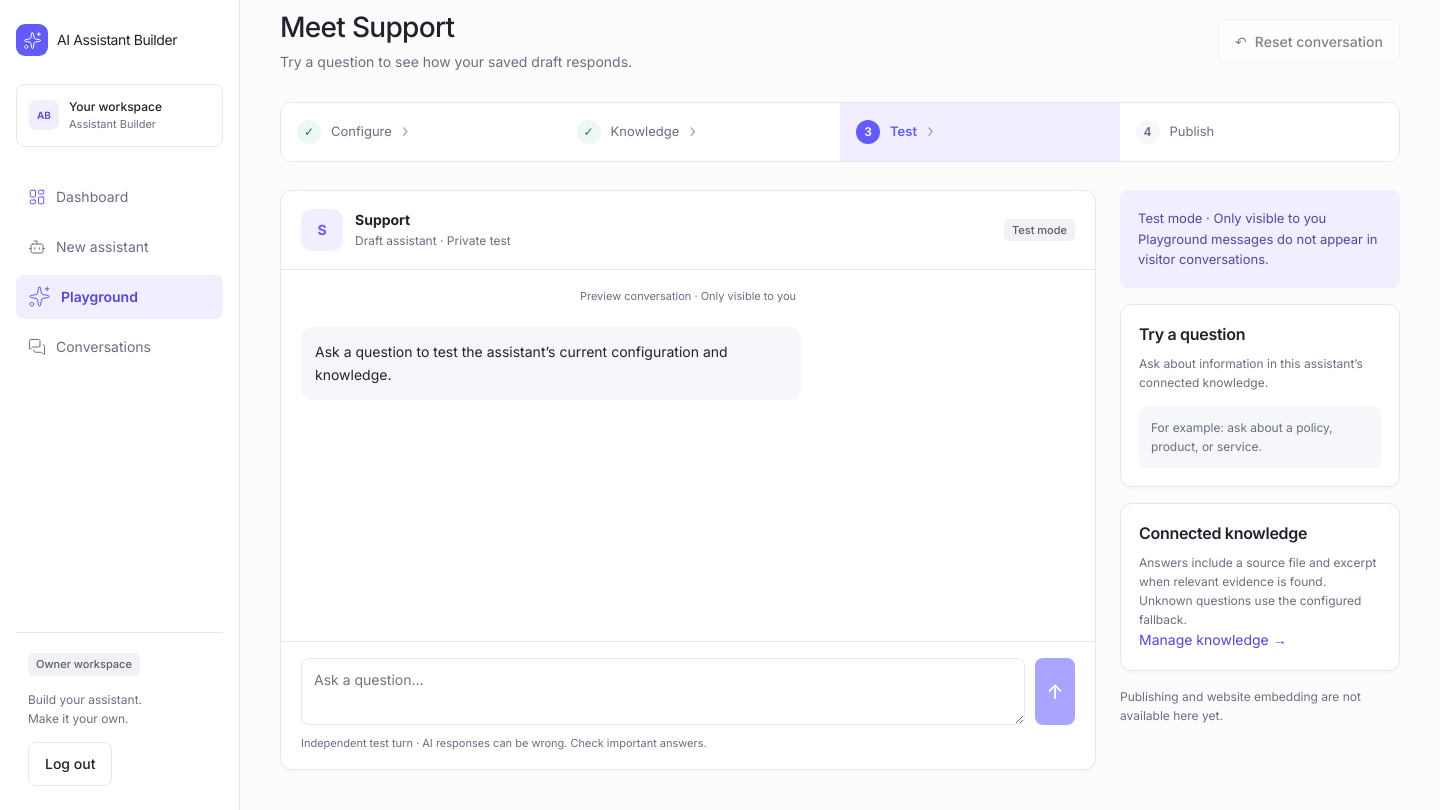
Scenario: Playground screen › maps readiness and provider errors to actionable copy without exposing server details
The image size is (1440, 810).
(page scrolled)
Step 1. Type "Question" into the text box → (663,692), box [301, 658, 1025, 725]
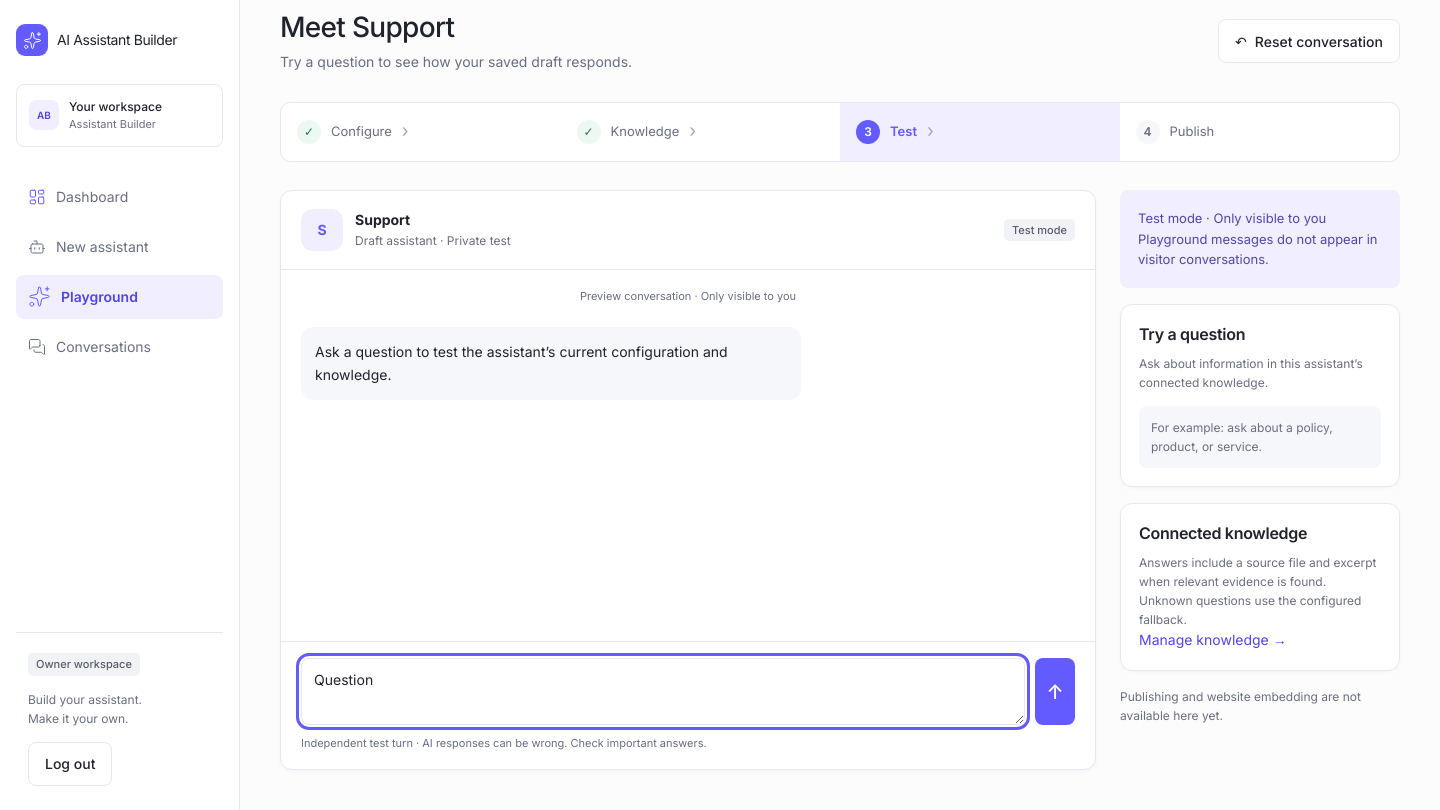
Step 2. Click the button named "Send question" → (1055,692), box [1035, 658, 1075, 725]
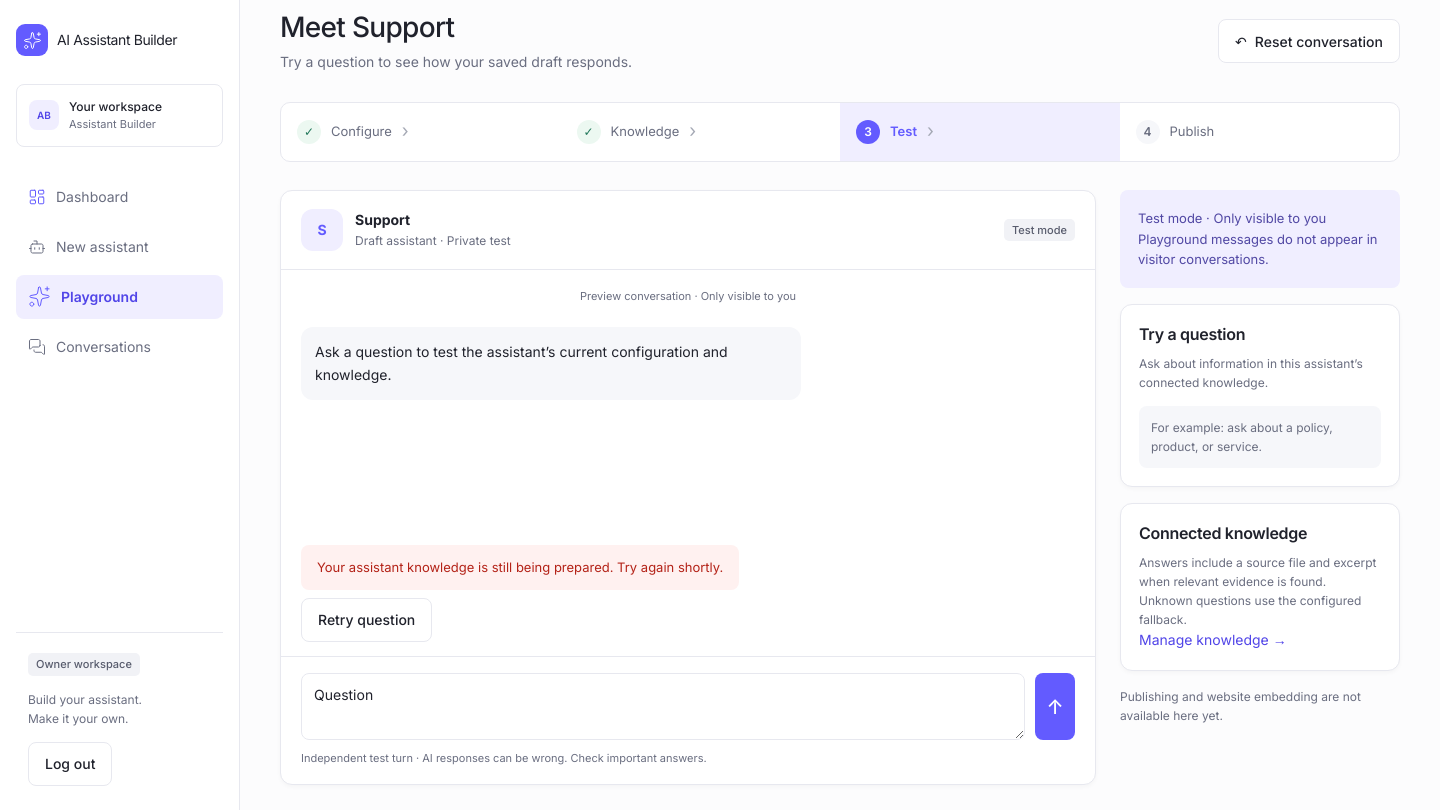
Expected: the message "Your assistant knowledge is still being prepared. Try again shortly." does not show "secret database detail", [301, 545, 739, 590]
Now the message "Your assistant knowledge is still being prepared. Try again shortly." is shown, box [301, 545, 739, 590]
